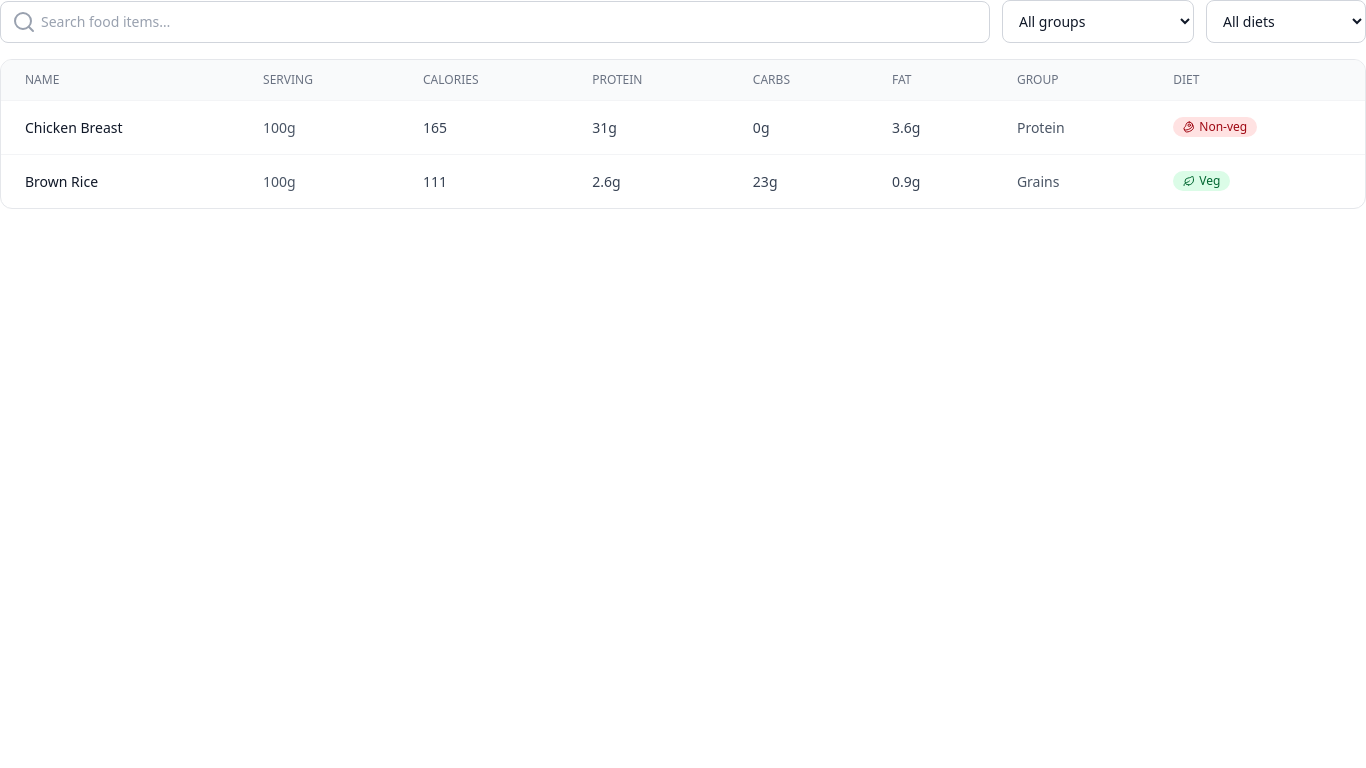
FoodItemTable › opens a detail modal when a row is clicked
Click the text "Chicken Breast". click: point(120, 128)
box: 1,100 -> 239,154
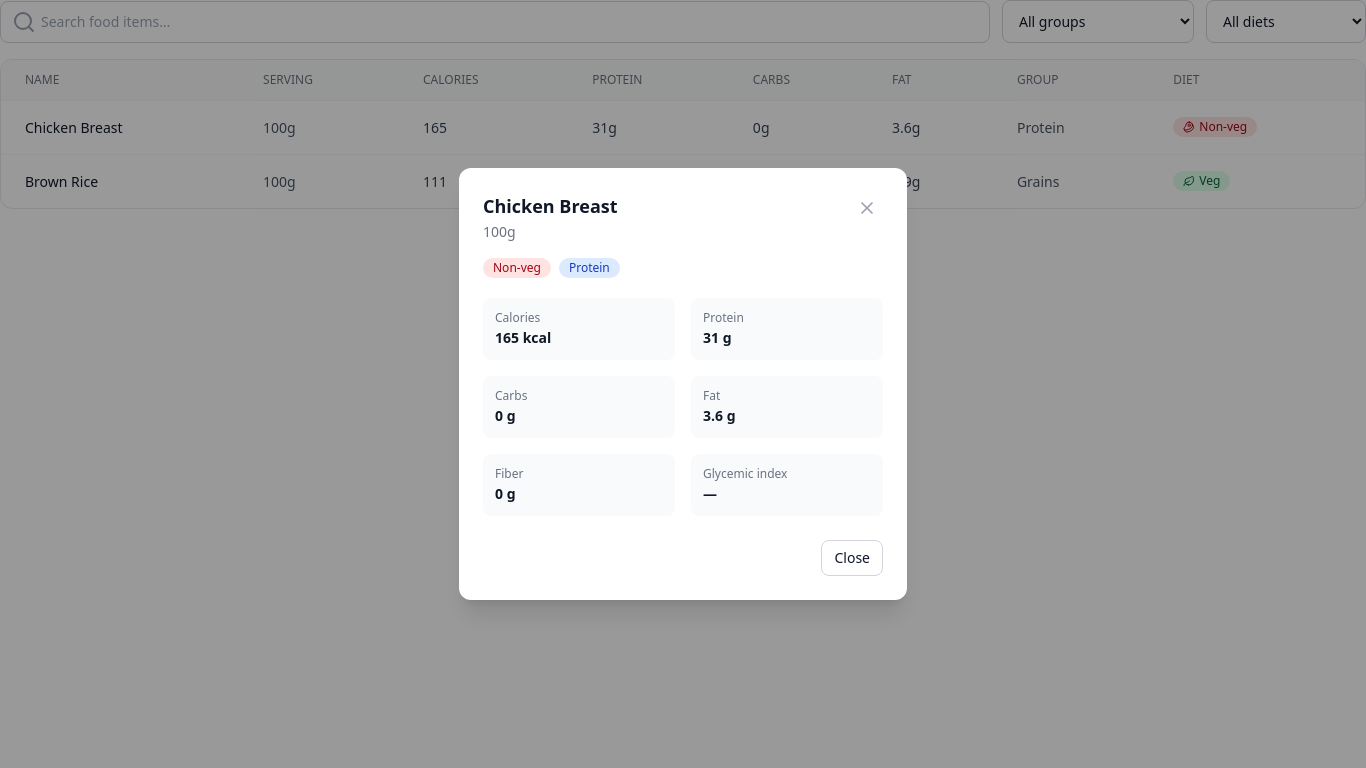
Now the dialog is shown
Now the text "165 kcal" is shown, box 495,328 -> 551,347
Now the text "31 g" is shown, box 703,328 -> 732,347
